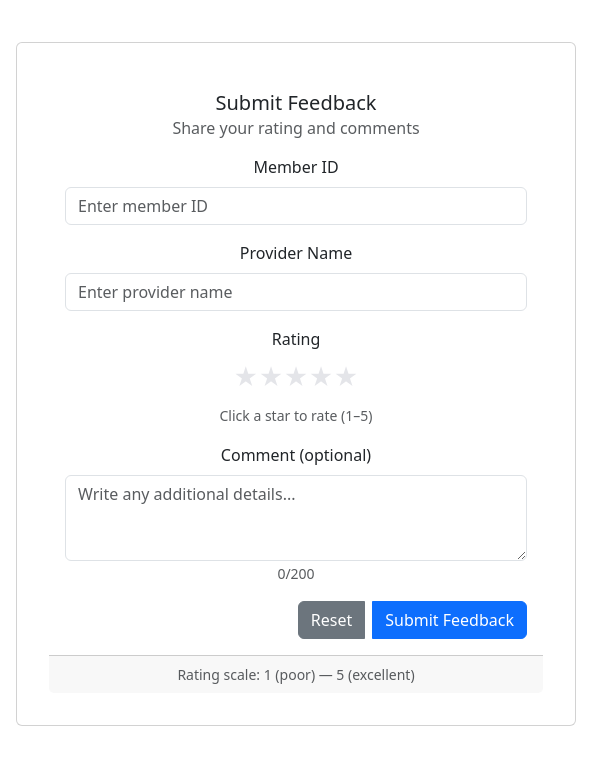
Scenario: FeedbackCard component › should validate if Rating input field is empty, display error message
The width and height of the screenshot is (593, 784).
Expected: the text "Rating must be between 1 and 5." is not shown
Type "memberId is set" into the field labelled "Member ID" at (296, 206), box [65,187,527,225]
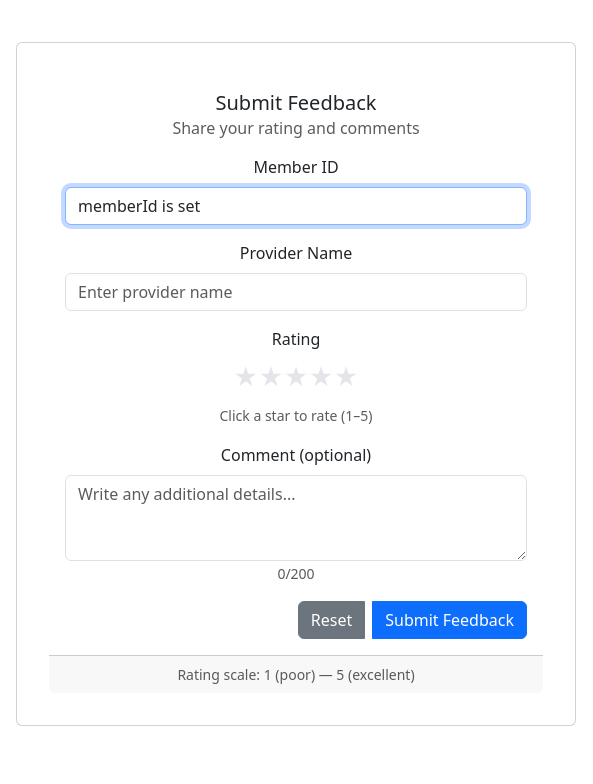
Type "providerName is set" into the field labelled "Provider Name" at (296, 292), box [65,273,527,311]
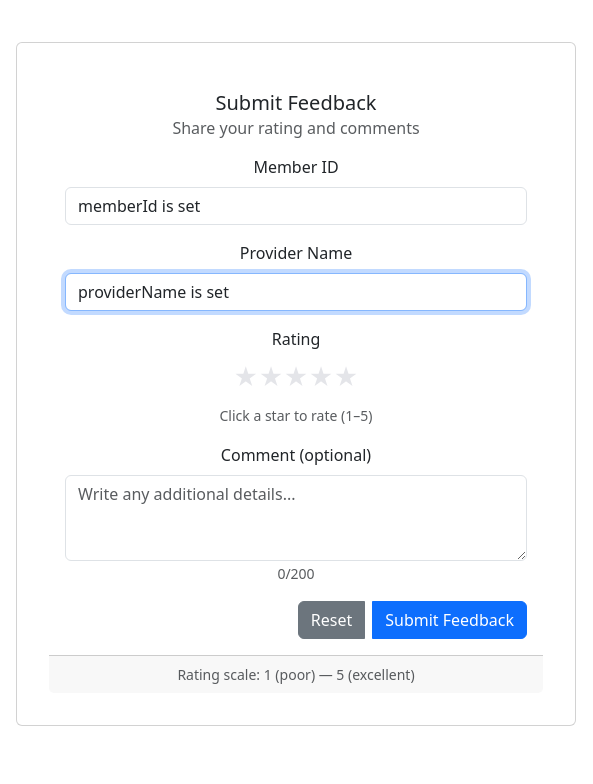
Click the button "Submit Feedback" at (450, 620), box [372,601,527,639]
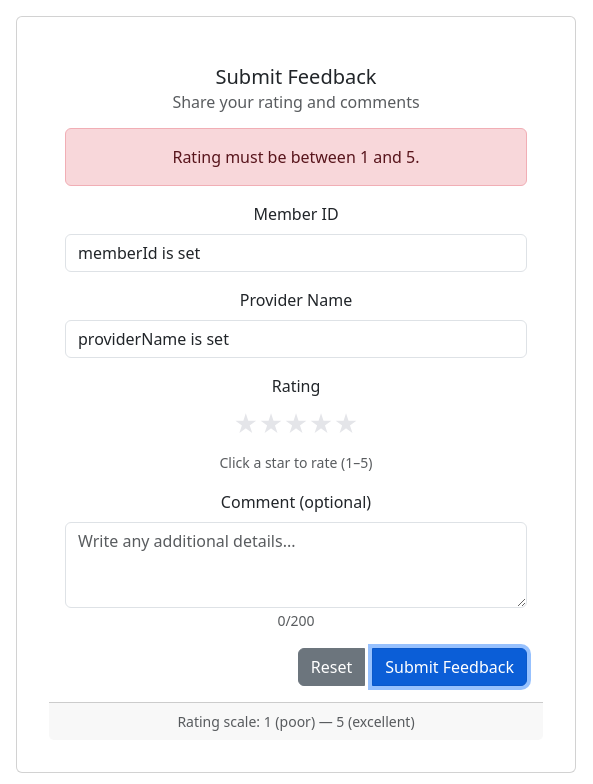
Expected: the text "Rating must be between 1 and 5." is shown, [65,128,527,186]
